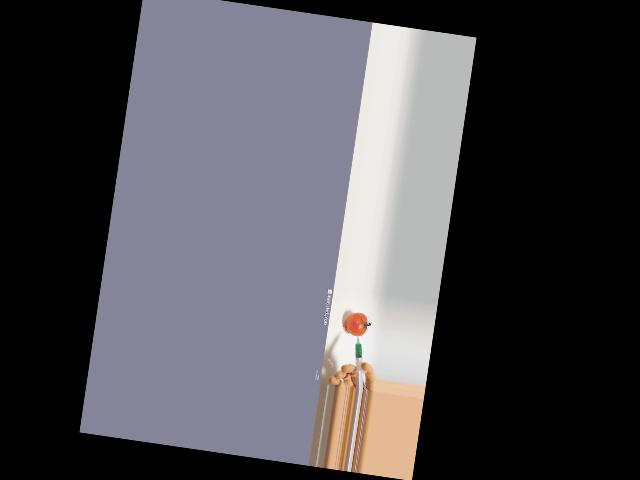tomato: (343, 311, 368, 337)
